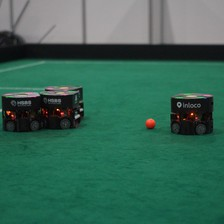ball: (144, 115, 157, 130)
robot: (168, 89, 216, 137), (1, 90, 44, 134), (38, 88, 81, 130), (77, 84, 84, 119)
